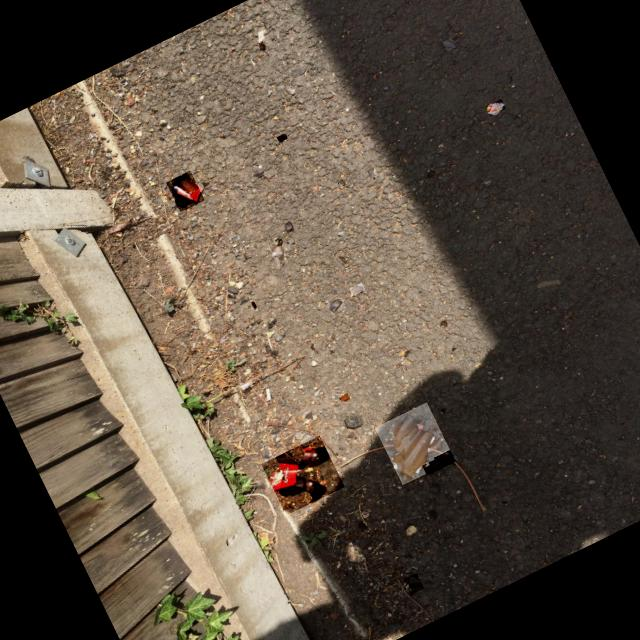Broken glass: (390, 413, 444, 484), (269, 447, 329, 504), (171, 173, 198, 209), (268, 244, 283, 265), (407, 576, 423, 589), (434, 454, 452, 465), (329, 299, 342, 313), (425, 462, 440, 474), (351, 285, 363, 295), (285, 221, 293, 231), (304, 410, 312, 419), (254, 171, 265, 177), (140, 157, 148, 165), (277, 134, 286, 141), (368, 167, 374, 177), (340, 394, 350, 400), (443, 42, 455, 47), (339, 256, 346, 263), (229, 235, 237, 241), (277, 237, 282, 246), (338, 178, 345, 184), (259, 43, 266, 49), (440, 321, 446, 327), (235, 246, 241, 251), (252, 303, 257, 309), (289, 240, 293, 243)
Cigarette: (265, 388, 270, 400)
Unlabeled litter: (487, 103, 505, 115)
